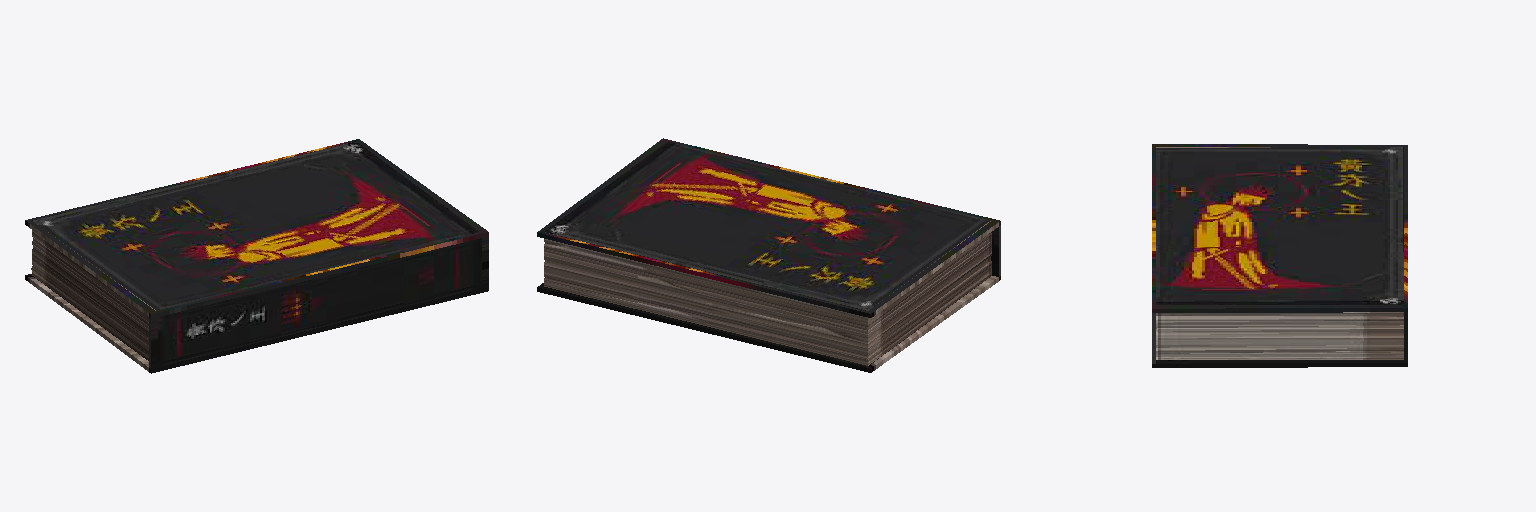
3 views of the same model, side by side, from view 1: azimuth 30°, elevation 25°; view 2: azimuth 150°, elevation 25°; view 3: azimuth 270°, elevation 25° (orthographic).
Visible parts, largest first — view 1: BookCover, Pages; view 2: BookCover, Pages; view 3: BookCover, Pages.
Part boxes in pixels (left/top/right/bottom): BookCover: left=25, top=139, right=488, bottom=373; Pages: left=31, top=230, right=148, bottom=360; BookCover: left=537, top=138, right=1000, bottom=372; Pages: left=544, top=233, right=991, bottom=365; BookCover: left=1152, top=144, right=1407, bottom=367; Pages: left=1156, top=312, right=1403, bottom=360.
Bounding box in the file's own units: 1.54 × 0.259 × 1.01.
2 materials, 1 textured.